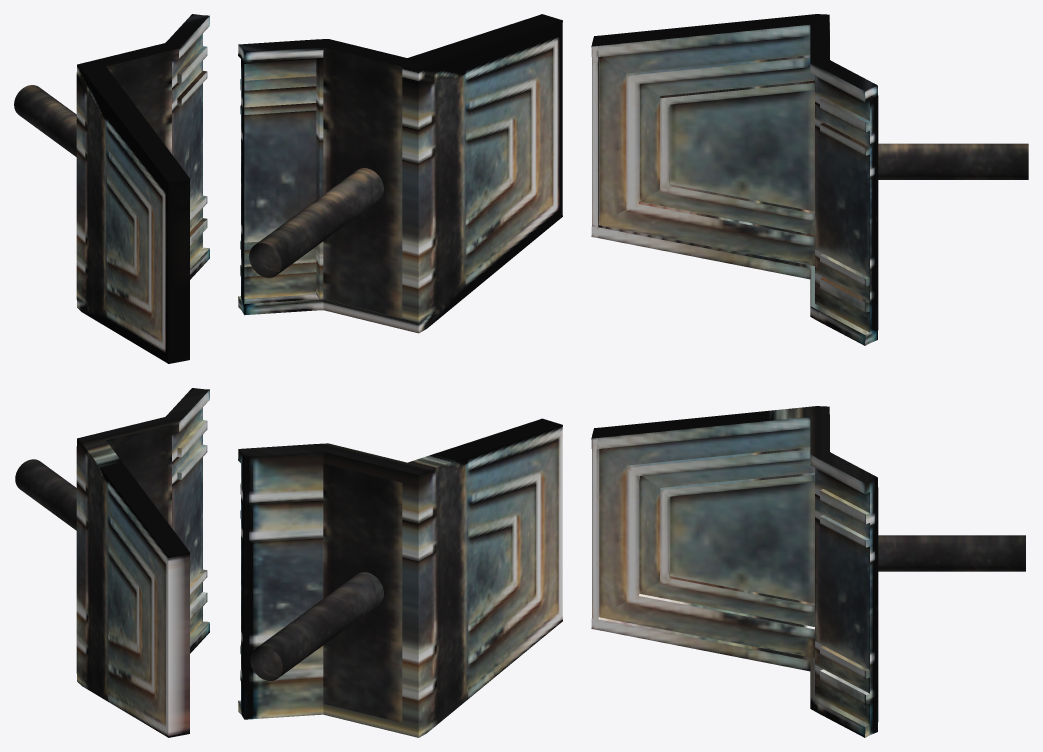
Rendered from pedals.gltf.
3 views of the same model, side by side, from view 1: azimuth 30°, elevation 25°; view 2: azimuth 150°, elevation 25°; view 3: azimuth 270°, elevation 25° (orthographic). The views are drawn at different scales.
Parts seen in each view (by area): view 1: RightPedal, LeftPedal, pedal-rod-right, pedal-rod-left; view 2: LeftPedal, RightPedal, pedal-rod-right, pedal-rod-left; view 3: RightPedal, LeftPedal, pedal-rod-right, pedal-rod-left.
Boxes of the visible parts, x1=… form: RightPedal: x1=76, y1=14, x2=209, y2=363; LeftPedal: x1=76, y1=388, x2=209, y2=737; pedal-rod-right: x1=14, y1=85, x2=76, y2=156; pedal-rod-left: x1=15, y1=459, x2=76, y2=530; LeftPedal: x1=238, y1=418, x2=562, y2=737; RightPedal: x1=238, y1=14, x2=562, y2=333; pedal-rod-right: x1=249, y1=168, x2=383, y2=277; pedal-rod-left: x1=250, y1=572, x2=383, y2=680; RightPedal: x1=591, y1=14, x2=878, y2=345; LeftPedal: x1=591, y1=406, x2=878, y2=737; pedal-rod-right: x1=878, y1=143, x2=1028, y2=179; pedal-rod-left: x1=878, y1=535, x2=1025, y2=571.
Bounding box in the file's own units: 0.0838 × 0.2895 × 0.1773.
1 material, 1 textured.
